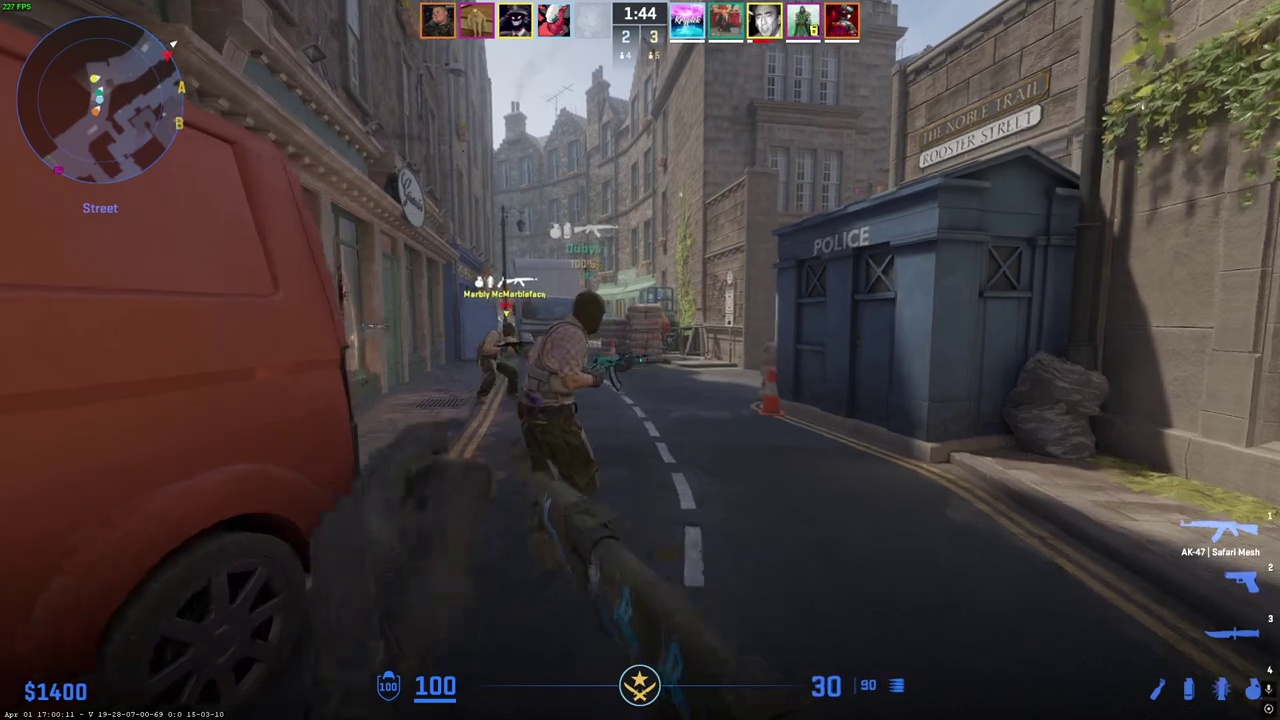Terrorist: (519, 290, 608, 495), (480, 322, 521, 402)
